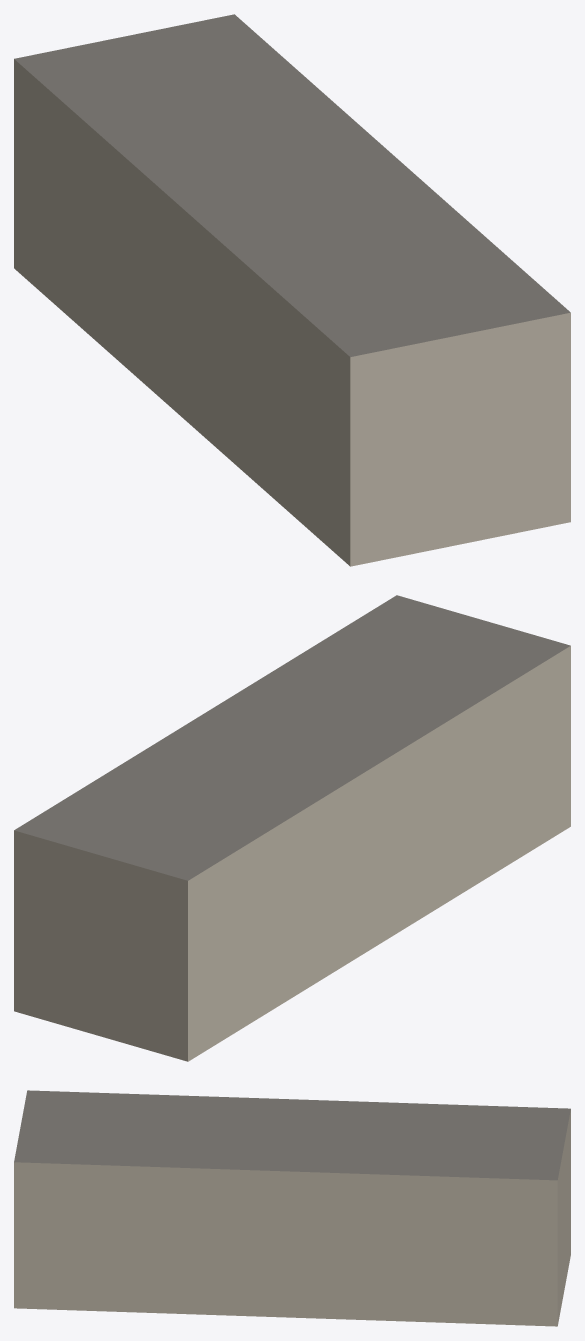
The picture shows the model from 3 angles, top to bottom: view 1: azimuth 30°, elevation 25°; view 2: azimuth 150°, elevation 25°; view 3: azimuth 270°, elevation 25°; orthographic projection. The views are drawn at different scales.
Visible parts, largest first — view 1: HP-w389702015; view 2: HP-w389702015; view 3: HP-w389702015.
Part boxes in pixels (x1=…): HP-w389702015: x1=14, y1=14, x2=570, y2=566; HP-w389702015: x1=14, y1=595, x2=570, y2=1061; HP-w389702015: x1=14, y1=1090, x2=570, y2=1326.
Bounding box in the file's own units: 15.86 × 12 × 41.46.
